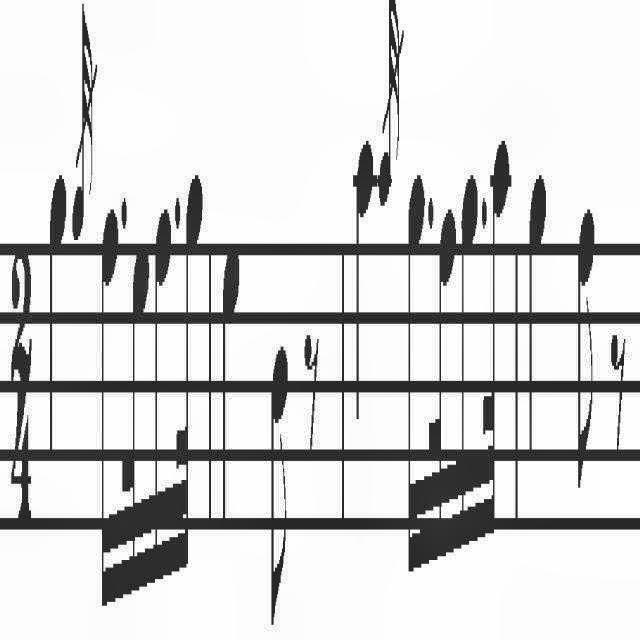Eighth-note: (576, 199, 596, 497), (270, 341, 290, 635)
Eighth-rest: (304, 326, 320, 454), (610, 328, 626, 452)
Quarter-note: (354, 132, 374, 432), (527, 169, 547, 461), (48, 173, 68, 463), (222, 241, 240, 535)
Sixteenth-note: (406, 170, 426, 576), (458, 167, 478, 561), (154, 204, 173, 592), (101, 204, 117, 620)
